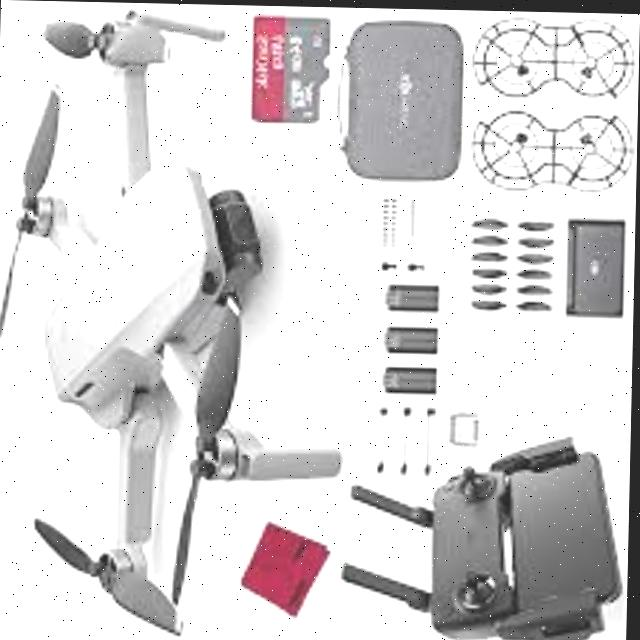drone: (0, 0, 358, 640)
